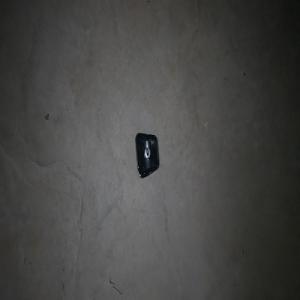LuggagePart: (134, 132, 159, 178)
